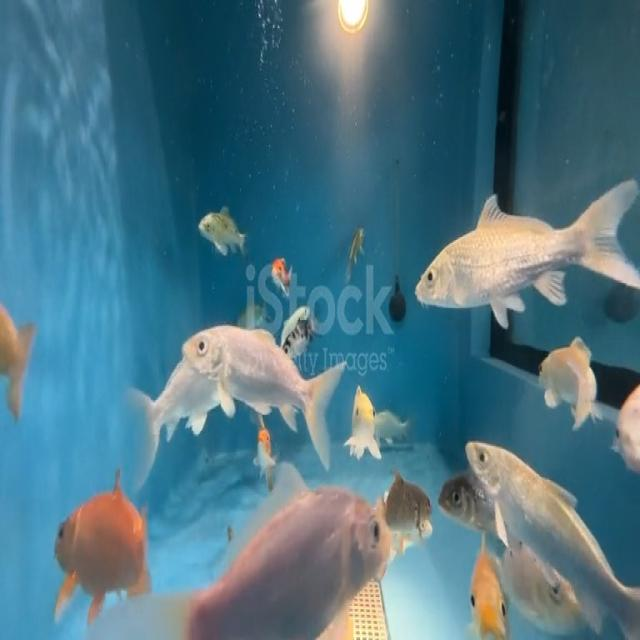fish: (410, 157, 634, 368), (465, 415, 640, 640), (178, 481, 398, 640), (182, 316, 348, 464), (46, 457, 156, 625), (345, 364, 422, 467), (532, 332, 604, 441), (378, 468, 447, 559), (460, 537, 512, 640), (195, 201, 252, 261), (272, 290, 316, 356), (436, 452, 473, 530), (613, 379, 640, 473), (341, 215, 372, 282), (267, 246, 291, 301)
